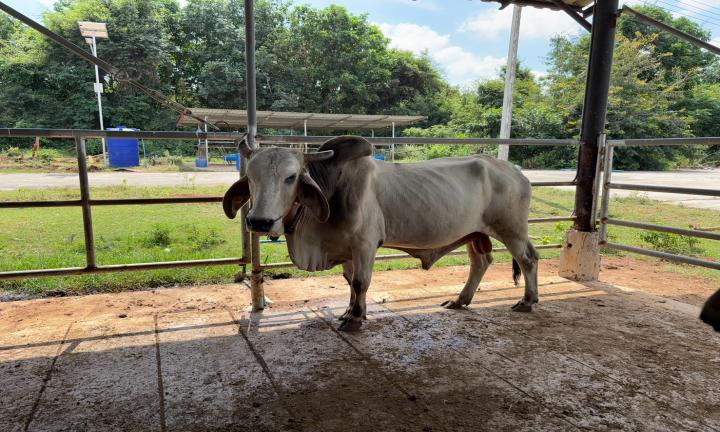Brahman: (223, 136, 539, 331)
